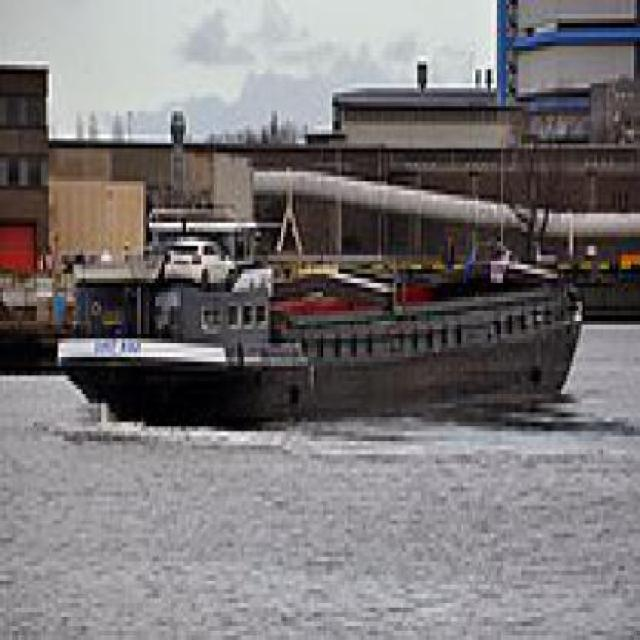container: (46, 210, 599, 441)
